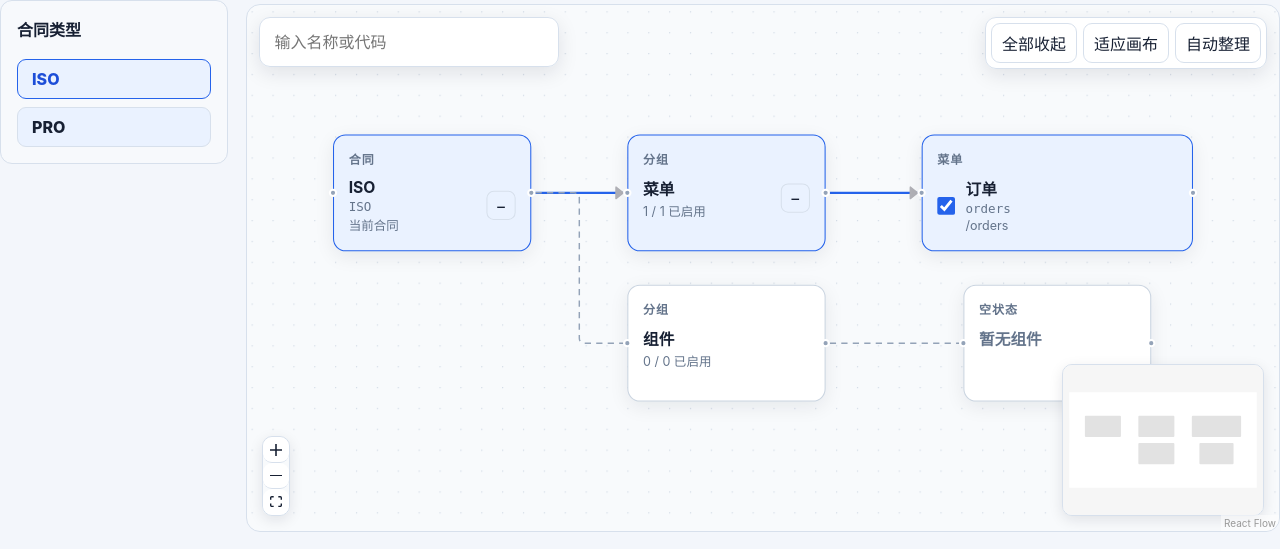
ContractModuleEditor › switches graph roots and reports the selected contract
Click the button "PRO" at (114, 127), box [17,107,211,147]
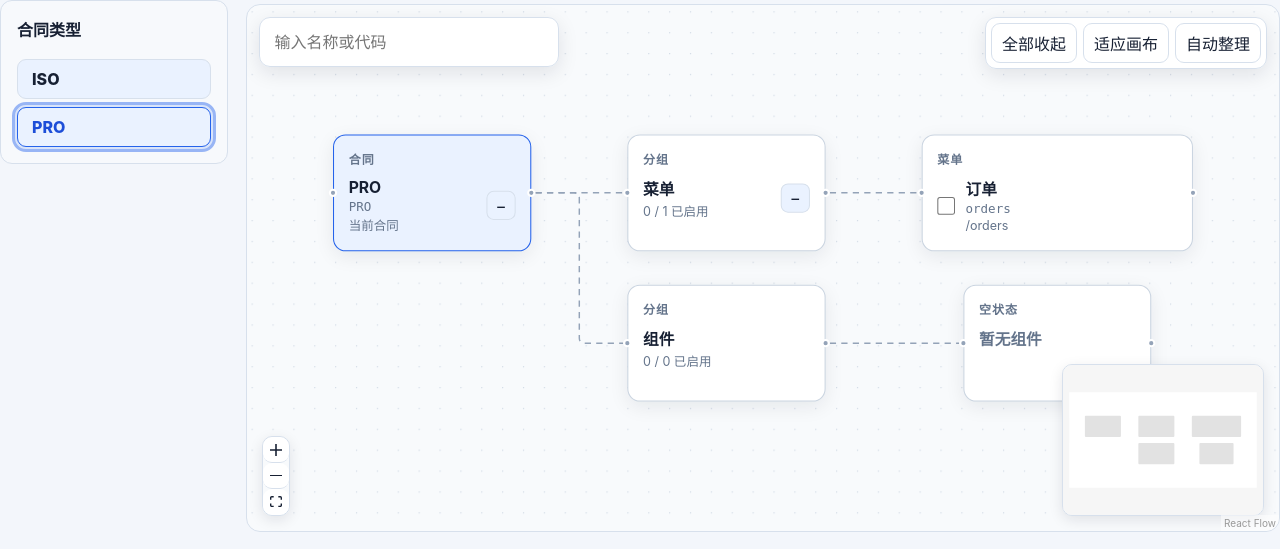
Expected: the element named "PRO 合同模块关系图" is shown
